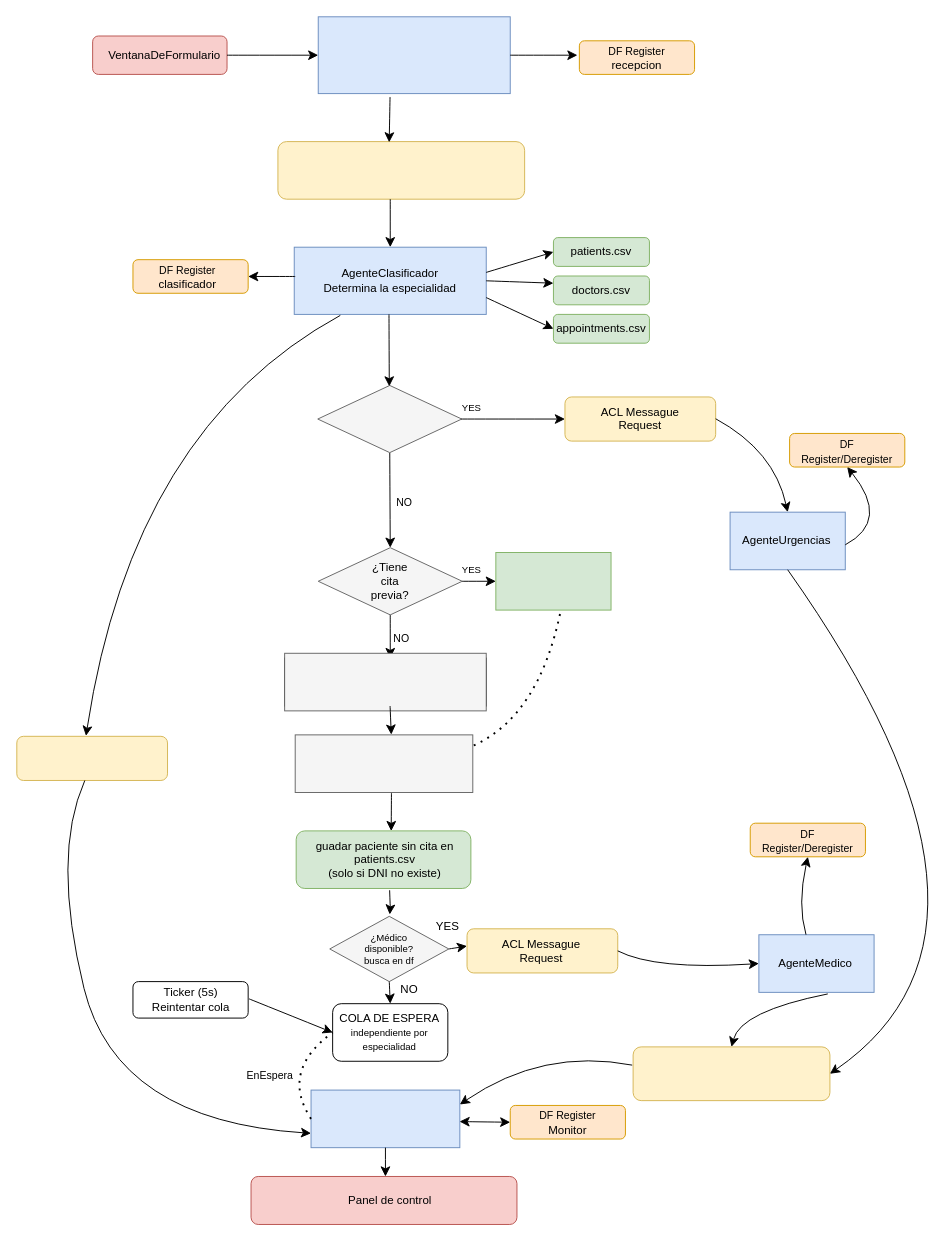
This 945x1241 diagram has some shape labels left out. Here are the shapes that lost their labels. From the top down, the box of each, then its label:
(317, 16, 510, 94): AgenteRecepcion Recoge datos del paciente y valida que el formato sea correcto
(277, 141, 525, 199): ACLMessage Inform dni, nombre, apellido, fechaNac, telefono
(317, 384, 462, 453): ¿Es urgencia?
(495, 552, 611, 610): Se mira la escecialidad desde appointments.csv
(284, 652, 486, 711): CLAISIFCCION POR EDAD <16 pediatria,>75 geriatria, resto mgerl
(16, 735, 168, 780): ACL Messague Inform
(294, 734, 473, 792): CALCULO PRIODIDAD cita- alta - media - normal
(632, 1046, 830, 1101): ACL Messague Inform en_consulta - atendido
(310, 1089, 460, 1148): AgenteMonitor EnEspera - EnConsulta - Atendido
